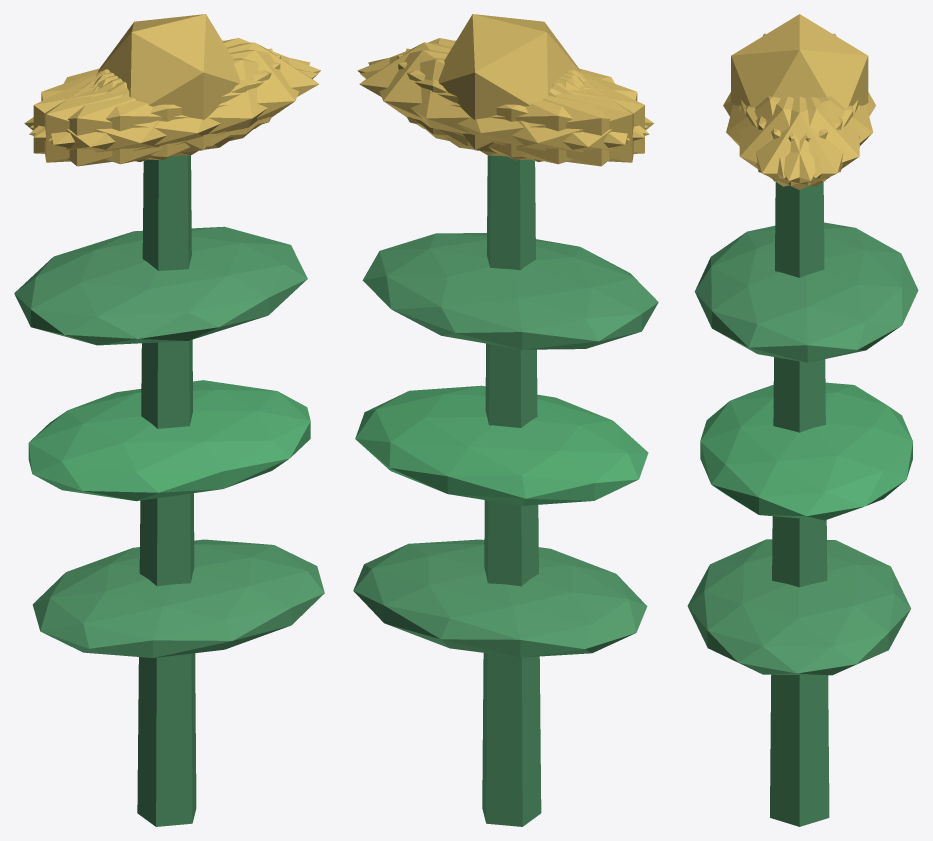
The model's file is adenium-obesum.glb.
3 views of the same model, side by side, from view 1: azimuth 30°, elevation 25°; view 2: azimuth 150°, elevation 25°; view 3: azimuth 270°, elevation 25° (orthographic).
Visible parts, largest first — view 1: stem, leaf2, leaf0, leaf1, center, petal1, petal6, petal2, petal5, petal7, petal0, petal4 (+2 smaller); view 2: leaf2, leaf1, leaf0, stem, center, petal8, petal3, petal7, petal4, petal2, petal0, petal5 (+2 smaller); view 3: leaf2, leaf0, leaf1, stem, center, petal0, petal5, petal4, petal1, petal8.
Boxes of the visible parts, x1,y1,x2,y2 form: stem: (137,155,196,826); leaf2: (14,226,307,345); leaf0: (32,539,324,657); leaf1: (28,380,310,501); center: (97,14,240,152); petal1: (29,58,318,164); petal6: (24,71,233,166); petal2: (44,48,272,162); petal5: (48,49,310,156); petal7: (33,55,280,160); petal0: (97,42,318,146); petal4: (30,38,320,137); leaf2: (362,233,658,349); leaf1: (355,385,648,505); leaf0: (353,539,647,657); stem: (482,155,541,826); center: (438,14,580,152); petal8: (360,58,649,164); petal3: (444,71,653,166); petal7: (406,48,633,162); petal4: (368,49,629,156); petal2: (397,55,644,160); petal0: (359,42,581,146); petal5: (357,38,648,137); leaf2: (694,222,918,362); leaf0: (687,539,910,675); leaf1: (700,382,912,520); stem: (770,182,829,826); center: (731,14,868,107); petal0: (741,96,858,189); petal5: (739,96,853,186); petal4: (746,96,860,186); petal1: (726,96,842,178); petal8: (756,96,873,178).
Size of the model in its own units: 0.1452 by 0.3854 by 0.1032.
